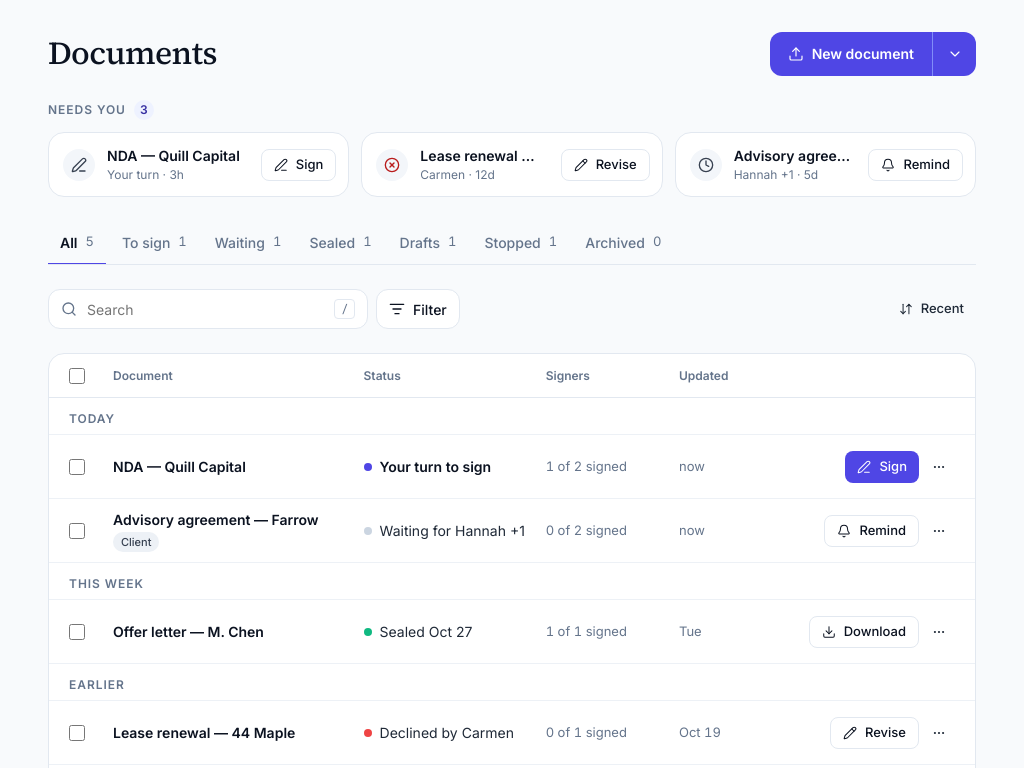
DashboardPage › opens a row menu with the document actions
Check: the checkbox named "Select Advisory agreement — Farrow" is shown, box 69,522 -> 85,538
Click the button named "More actions for Advisory agreement — Farrow" at (939,530), box 923,514 -> 955,546
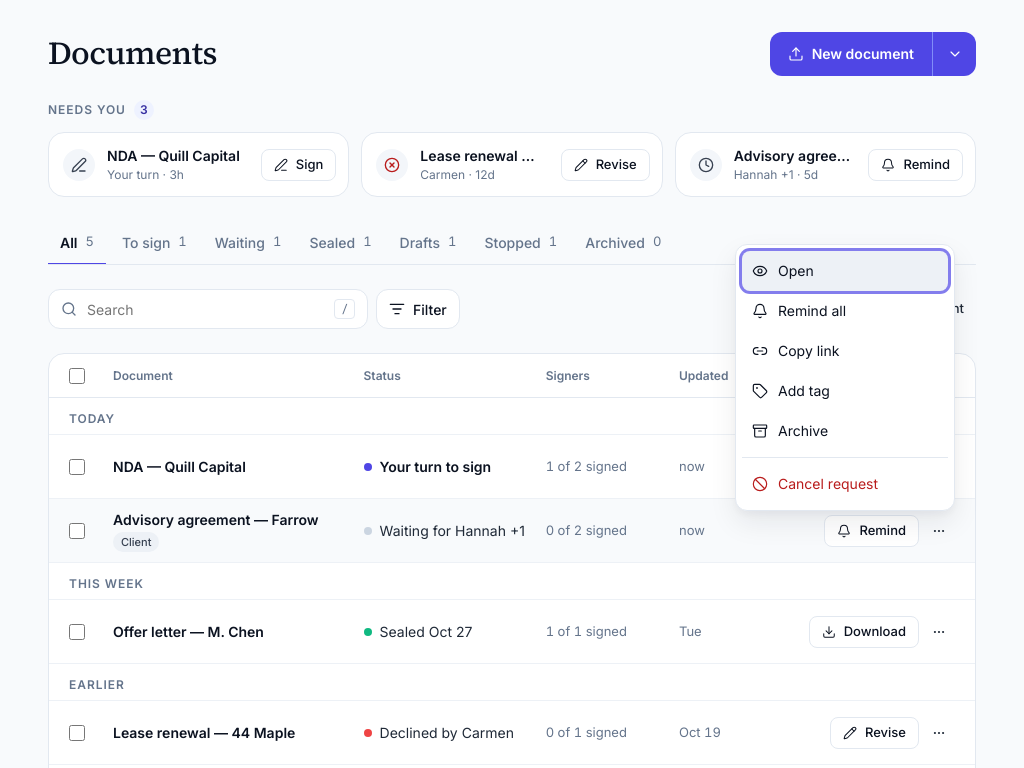
Check: the menu item "Open" is shown, box 742,250 -> 948,290
Check: the menu item "Remind all" is shown, box 742,290 -> 948,330
Check: the menu item "Copy link" is shown, box 742,330 -> 948,370
